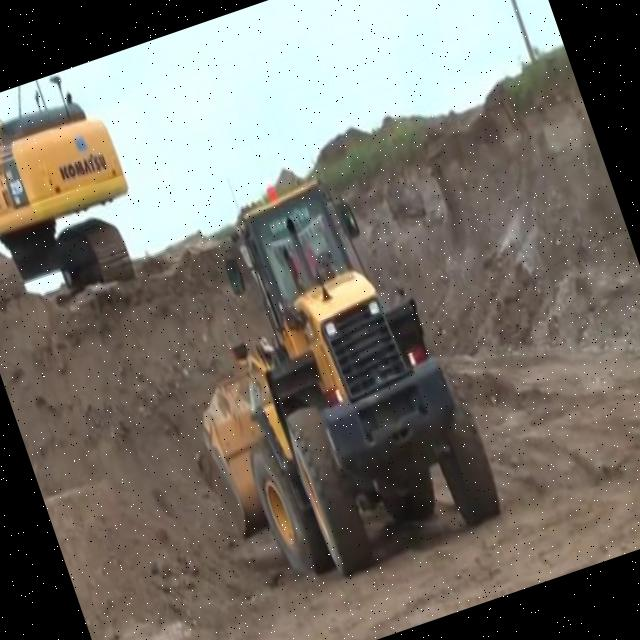Excavator: (0, 62, 156, 328)
Loader: (117, 145, 511, 612)
